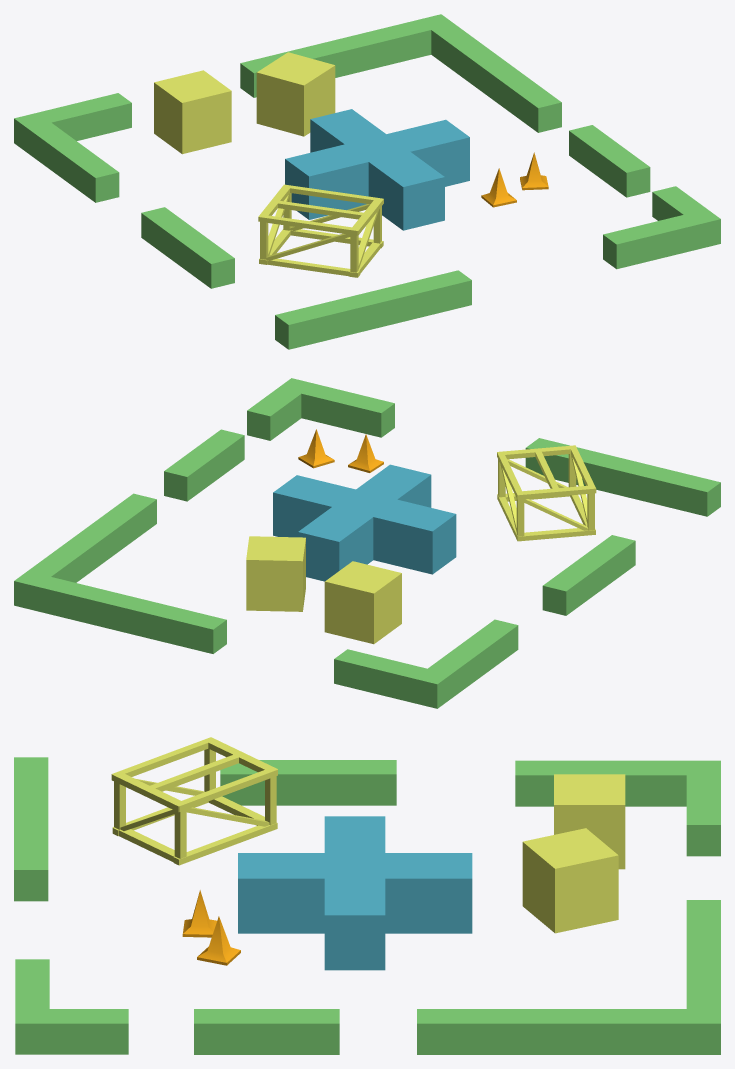
File: BMark6.fbx
3 renders of one model, top to bottom at view 1: azimuth 30°, elevation 25°; view 2: azimuth 150°, elevation 25°; view 3: azimuth 270°, elevation 25°, orthographic. The views are drawn at different scales.
Parts seen in each view (by area): view 1: BMark6; view 2: BMark6; view 3: BMark6.
Boxes of the visible parts, x1,y1,x2,y2 form: BMark6: (14,14,720,349); BMark6: (14,378,720,708); BMark6: (14,737,720,1054).
Size of the model in its own units: 233 by 32.91 by 261.
